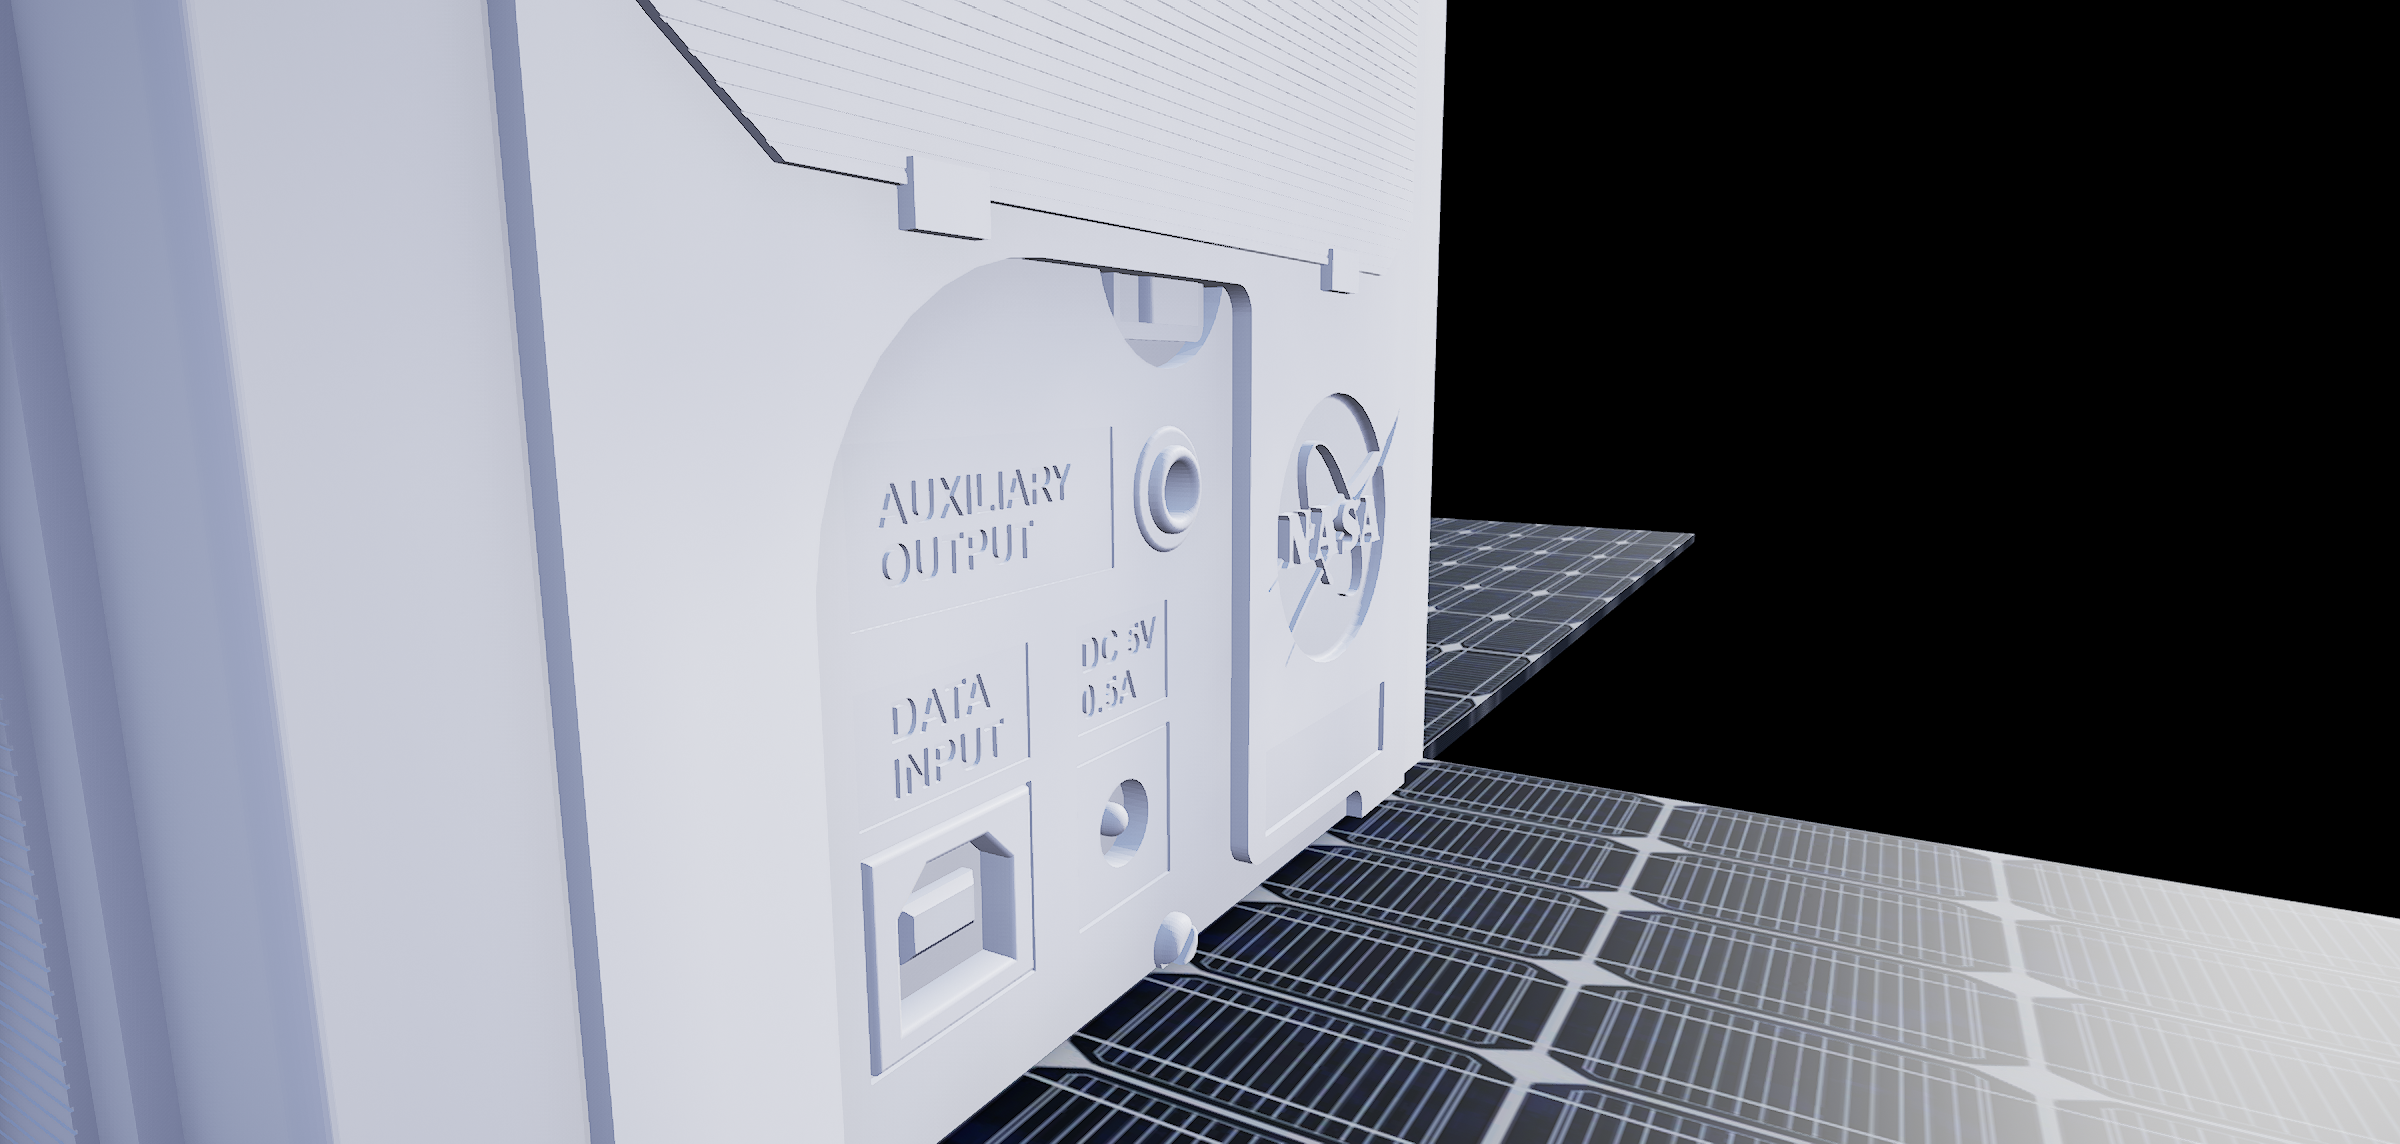aux: (1130, 413, 1215, 564)
dc: (1085, 770, 1165, 874)
usb: (892, 842, 1035, 1028)
